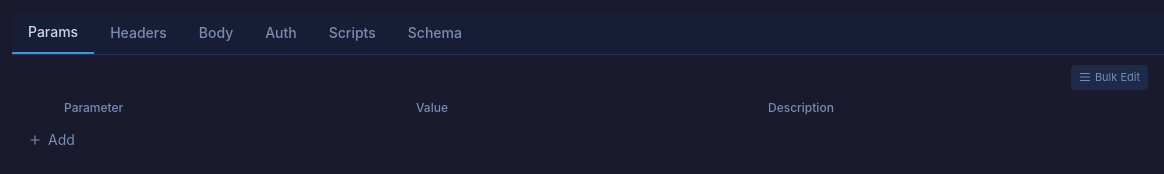
Scenario: RequestPanel › switching to Auth tab shows auth type selector
Click the button "Auth". click: [281, 33]
box: [249,13,313,53]
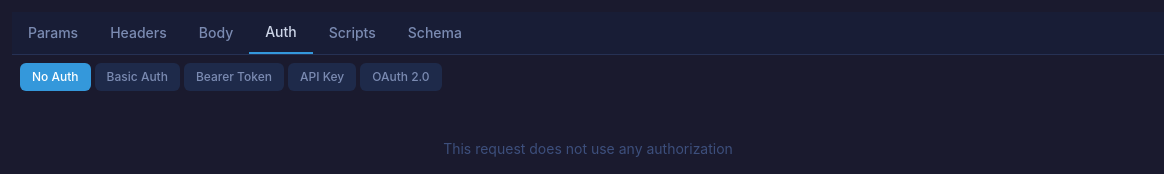
Now the button "No Auth" is shown, box [20,63,91,91]
Now the button "Basic Auth" is shown, box [95,63,180,91]
Now the button "Bearer Token" is shown, box [184,63,284,91]
